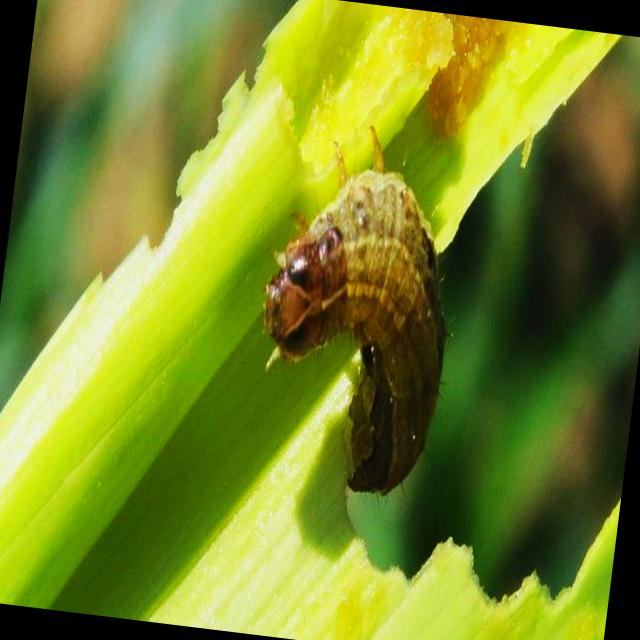pest: (246, 171, 475, 510)
